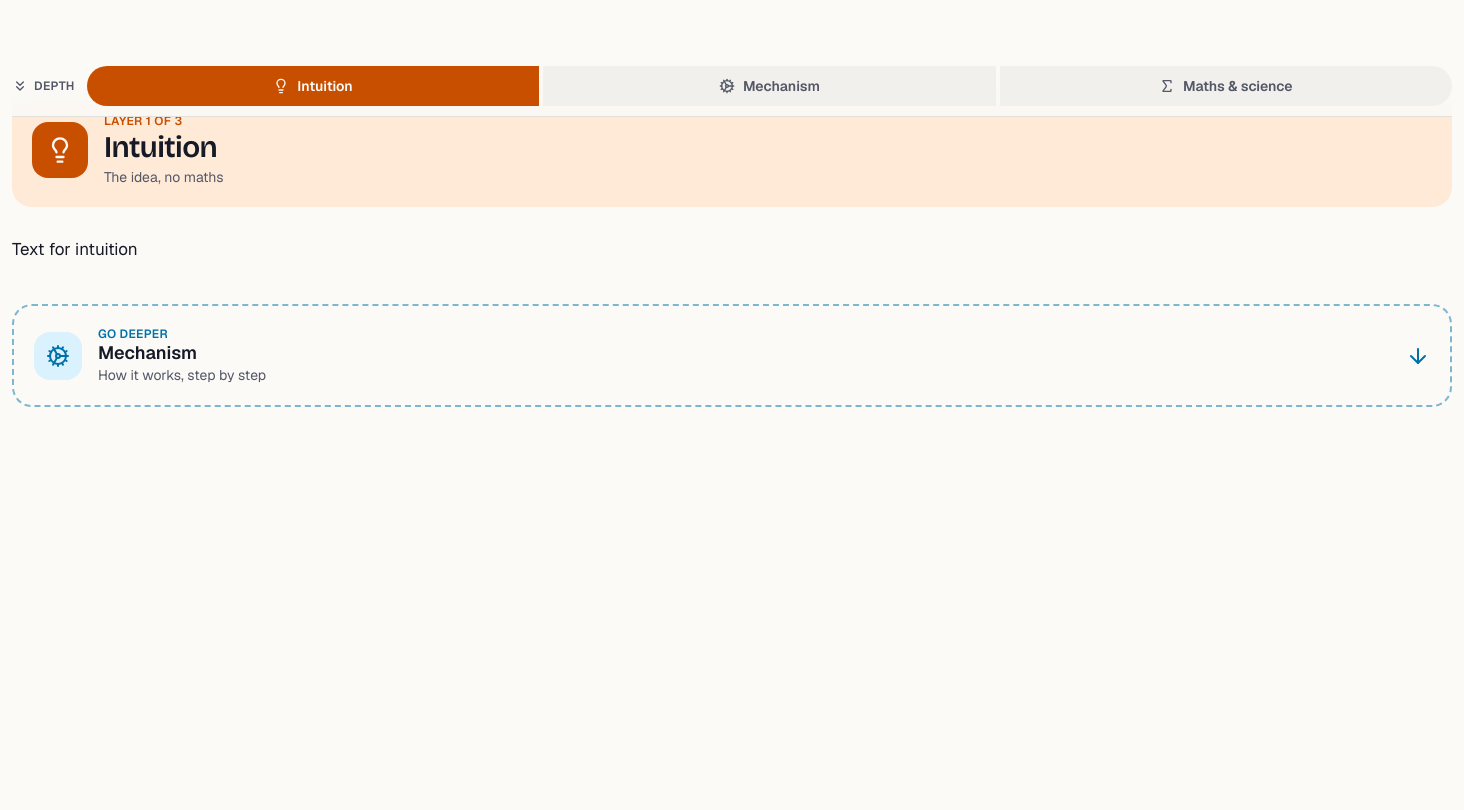
Test: explainer depth › celebrates reaching the last layer and offers nothing deeper
This screenshot has width=1464, height=810.
Click the button "Maths & science". click: (1226, 86)
box: [1000,66,1452,106]
(page scrolled)
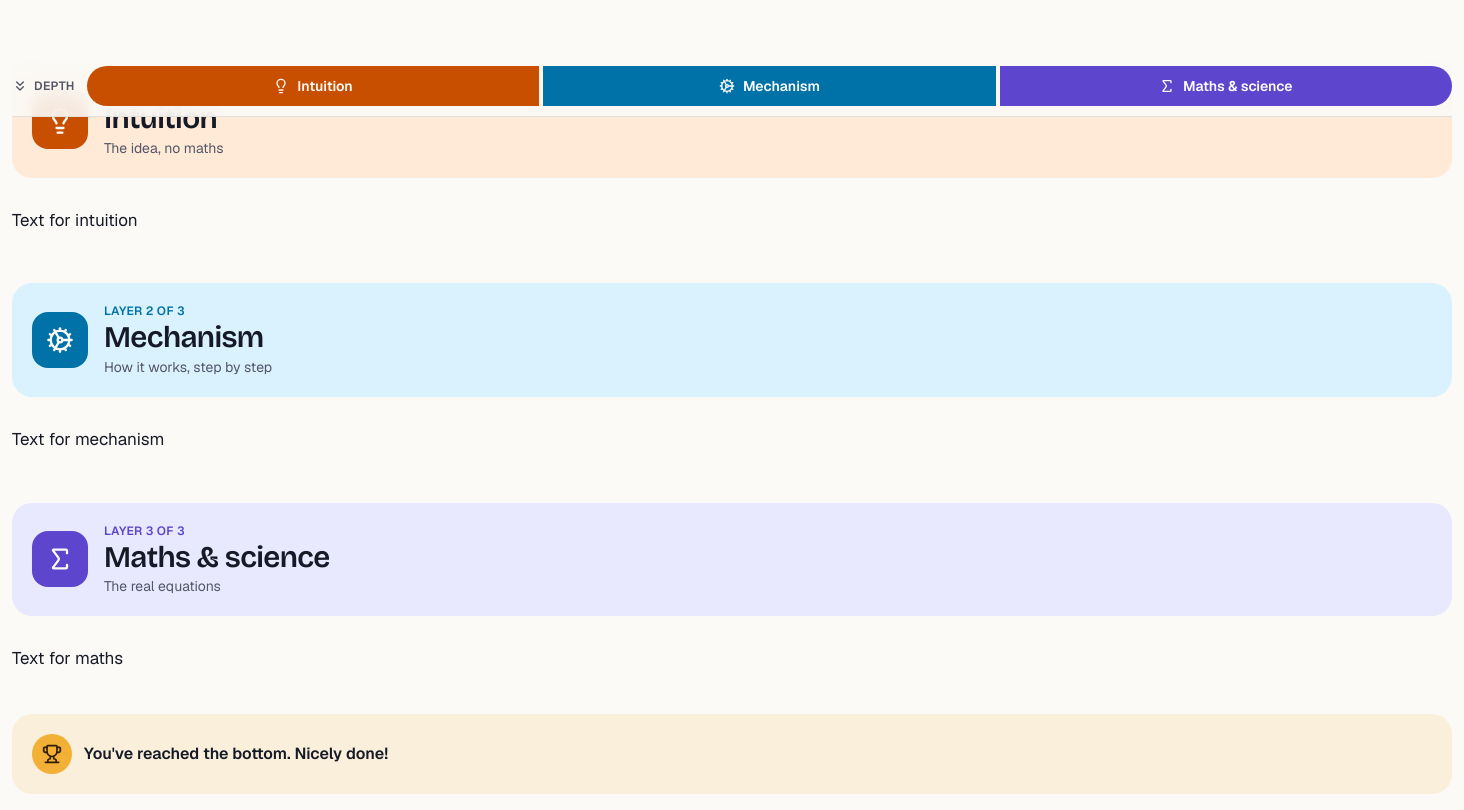
Expected: the button "Go deeper" is gone
Expected: the text "You've reached the bottom. Nicely done!" is shown, [12,714,1452,794]
